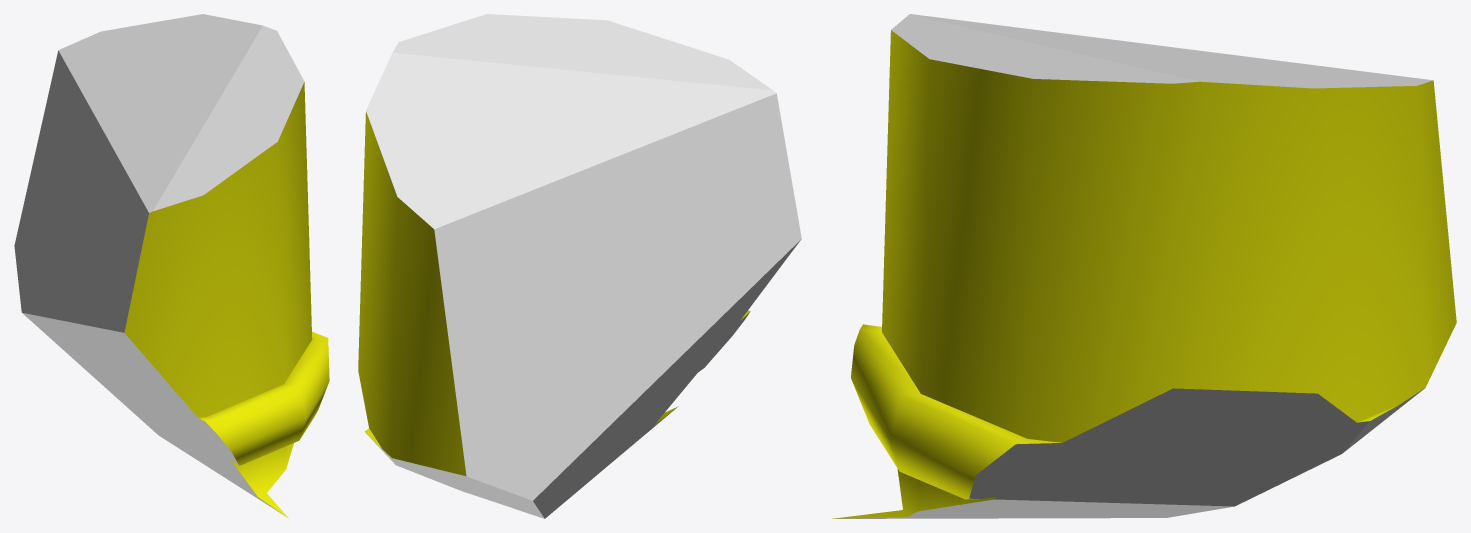
Rendered from mdl_ciudadela_casa_pilar1_fracturepart19.fbx.
The picture shows the model from 3 angles, left to right: view 1: azimuth 30°, elevation 25°; view 2: azimuth 150°, elevation 25°; view 3: azimuth 270°, elevation 25°; orthographic projection. The views are drawn at different scales.
Parts seen in each view (by area): view 1: mdl_ciudadela_casa_pilar1_fracturepart19; view 2: mdl_ciudadela_casa_pilar1_fracturepart19; view 3: mdl_ciudadela_casa_pilar1_fracturepart19.
Boxes of the visible parts, left/top/right/bottom form: mdl_ciudadela_casa_pilar1_fracturepart19: left=14, top=14, right=329, bottom=518; mdl_ciudadela_casa_pilar1_fracturepart19: left=358, top=14, right=801, bottom=518; mdl_ciudadela_casa_pilar1_fracturepart19: left=832, top=14, right=1456, bottom=518.
Size of the model in its own units: 0.5948 by 0.844 by 0.9297.
